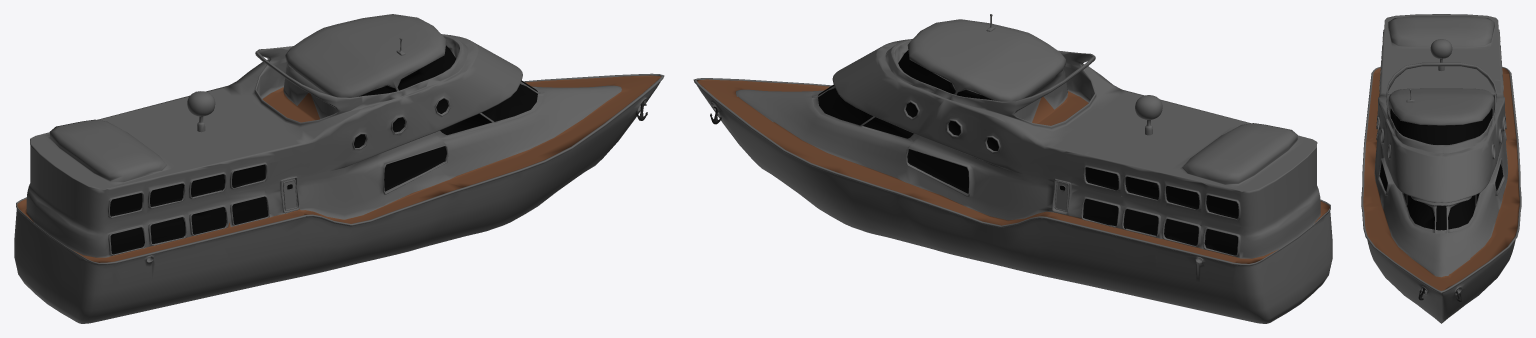
Rendered from yacht_low_poly.obj.
3 renders of one model, left to right at view 1: azimuth 30°, elevation 25°; view 2: azimuth 150°, elevation 25°; view 3: azimuth 270°, elevation 25°, orthographic. The views are drawn at different scales.
Parts seen in each view (by area): view 1: Yacht_Plane, antenaB_Cube.016; view 2: Yacht_Plane, antenaB_Cube.016; view 3: Yacht_Plane, antenaB_Cube.016.
Boxes of the visible parts, left/top/right/bottom form: Yacht_Plane: left=14, top=14, right=664, bottom=323; antenaB_Cube.016: left=187, top=91, right=215, bottom=132; Yacht_Plane: left=693, top=19, right=1332, bottom=323; antenaB_Cube.016: left=1135, top=95, right=1162, bottom=135; Yacht_Plane: left=1361, top=14, right=1521, bottom=323; antenaB_Cube.016: left=1430, top=39, right=1452, bottom=70.
Size of the model in its own units: 0.5049 by 0.157 by 0.1444.
